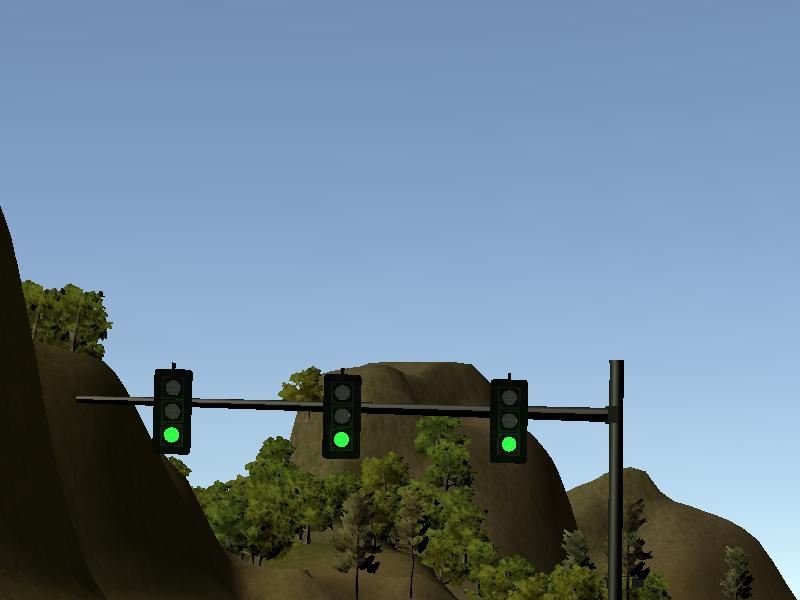Green: (155, 367, 192, 454), (491, 379, 526, 463), (325, 374, 359, 459)
